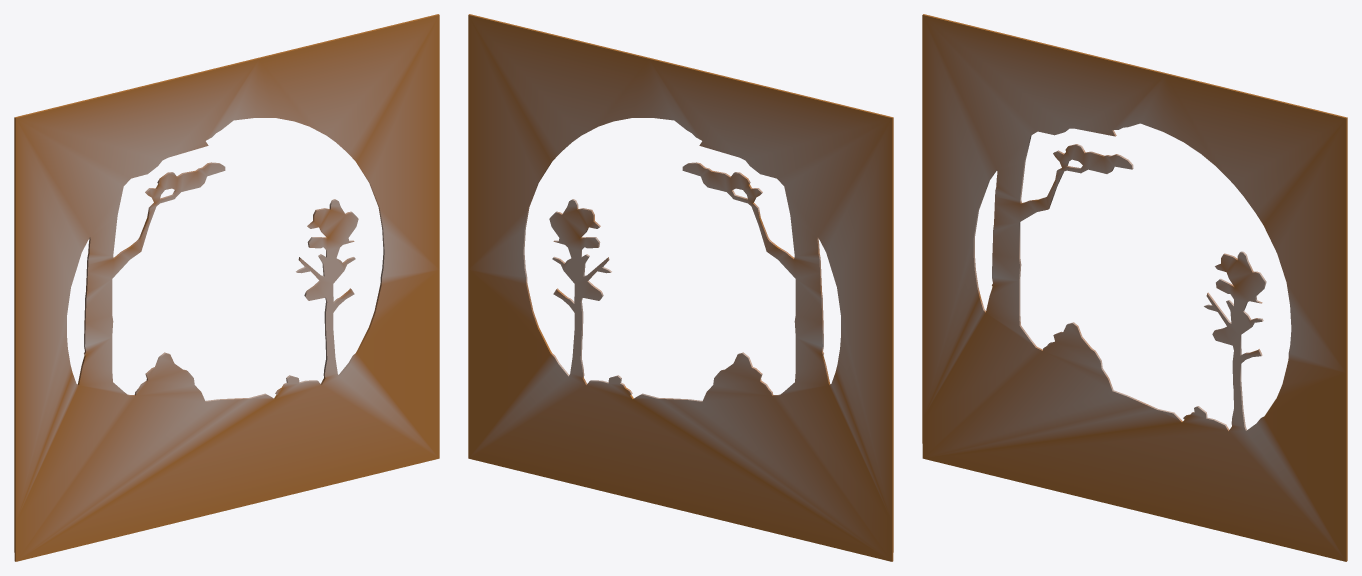
Rendered from fall_2b.fbx.
3 renders of one model, left to right at view 1: azimuth 30°, elevation 25°; view 2: azimuth 150°, elevation 25°; view 3: azimuth 330°, elevation 25°, orthographic.
Parts seen in each view (by area): view 1: fall_2b; view 2: fall_2b; view 3: fall_2b.
Boxes of the visible parts, box(x1,y1,x2,y2) form: fall_2b: box(14, 14, 439, 561); fall_2b: box(468, 14, 893, 561); fall_2b: box(922, 14, 1347, 561).
Bounding box in the file's own units: 198 × 198 × 1.03.
